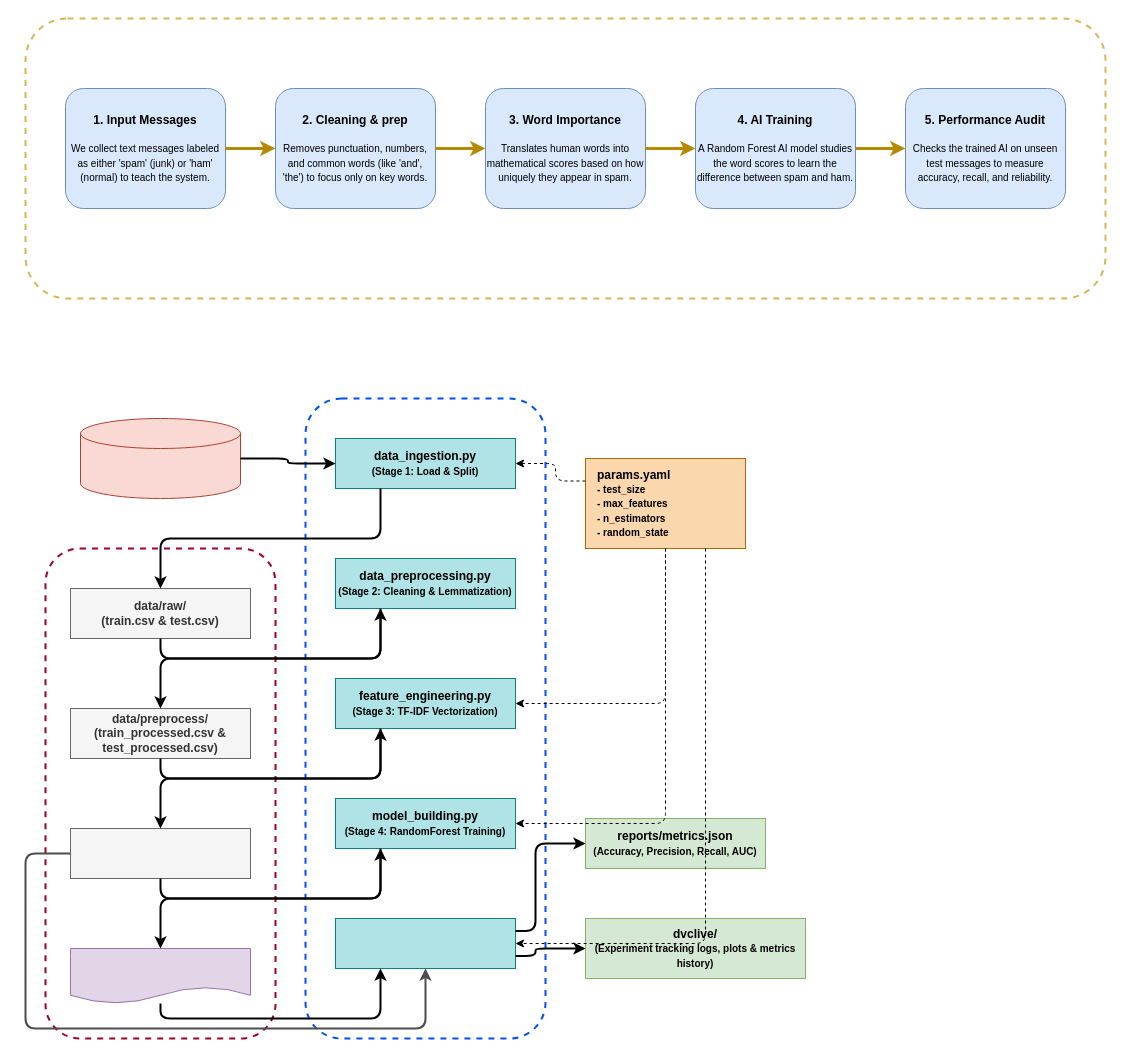
The diagram is 1123 pixels wide and 1056 high, and some of its shapes have lost their labels. The box of each missing label's shape, as (x1, y1, x2, y2) in pixels:
Data Lifecycle & Artifacts: (44, 547, 276, 1039)
data/processed_final/ (train_tfidf.csv & test_tfidf.csv): (70, 828, 250, 878)
GitHub Remote Data (spam.csv): (80, 418, 240, 498)
model_evaluation.py (Stage 5: Metrics & Experiment Tracking): (334, 918, 516, 968)
models/model.pkl (Serialized RandomForest): (70, 948, 250, 1004)
Simplified Workflow (For Business & Non-Technical Stakeholders): (24, 17, 1106, 299)
Technical Stage Pipelines (Orchestrated by DVC): (304, 397, 546, 1039)
